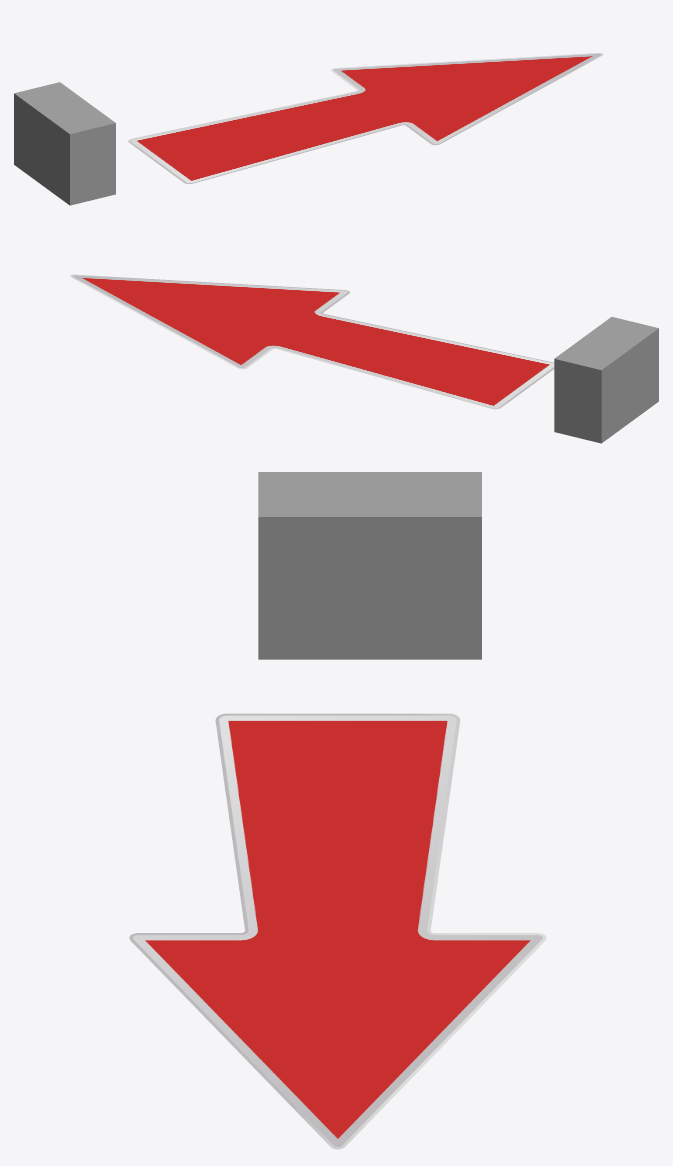
File: arrow3.fbx
3 renders of one model, top to bottom at view 1: azimuth 30°, elevation 25°; view 2: azimuth 150°, elevation 25°; view 3: azimuth 270°, elevation 25°, orthographic. The views are drawn at different scales.
Parts seen in each view (by area): view 1: pCube2, pCube3; view 2: pCube2, pCube3; view 3: pCube2, pCube3.
Boxes of the visible parts, x1,y1,x2,y2 form: pCube2: (128, 53, 603, 183); pCube3: (14, 82, 115, 205); pCube2: (70, 274, 554, 409); pCube3: (554, 317, 658, 443); pCube2: (129, 713, 546, 1149); pCube3: (258, 472, 481, 659).
Size of the model in its own units: 1.38 by 0.1695 by 0.4589.
Materials: 2 (1 with a texture image).
